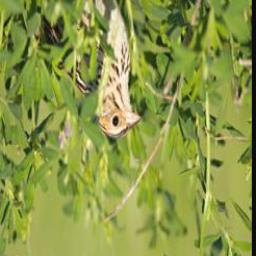Sparrow: (35, 0, 144, 141)
